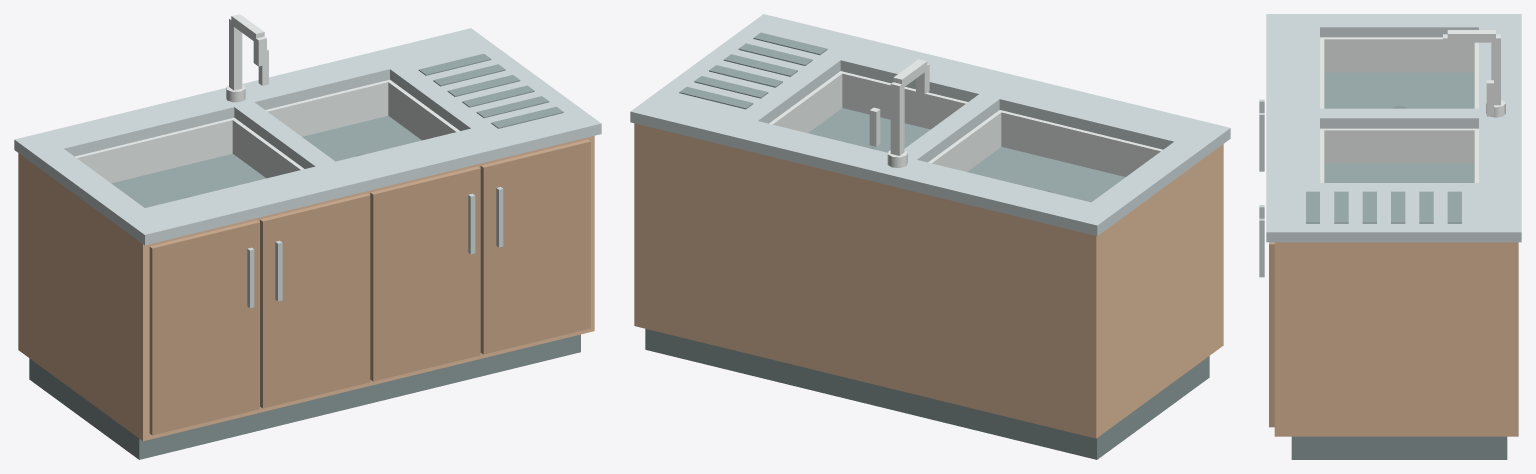
File: sinkDoubleBowl.glb
3 views of the same model, side by side, from view 1: azimuth 30°, elevation 25°; view 2: azimuth 150°, elevation 25°; view 3: azimuth 270°, elevation 25° (orthographic). The views are drawn at different scales.
Visible parts, largest first — view 1: sinkDoubleBowl; view 2: sinkDoubleBowl; view 3: sinkDoubleBowl.
Part boxes in pixels (<box>): sinkDoubleBowl: <box>14,14,601,459</box>; sinkDoubleBowl: <box>630,14,1230,459</box>; sinkDoubleBowl: <box>1259,14,1521,459</box>.
Bounding box in the file's own units: 0.91 × 0.6085 × 0.462.
